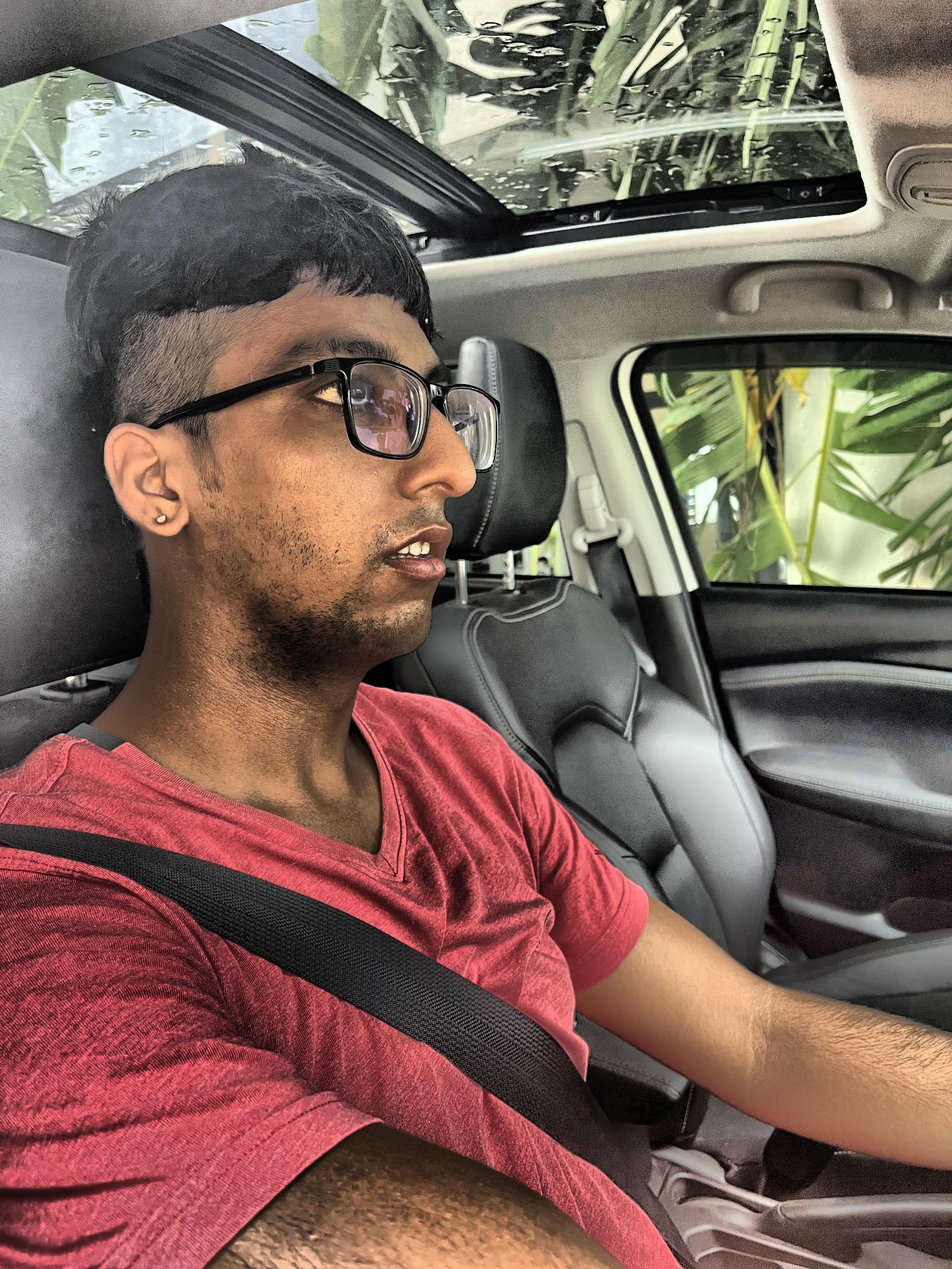seatbelt: (0, 720, 661, 1237)
